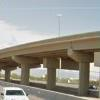Bridge: (3, 27, 97, 81)
